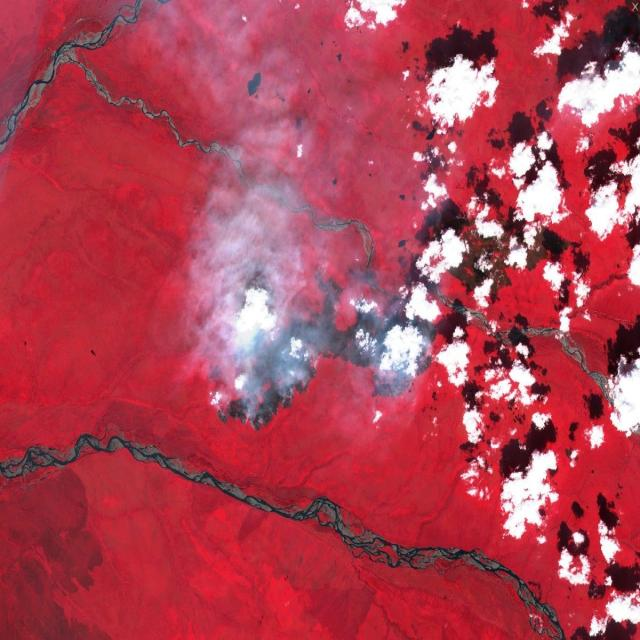fire: (211, 257, 441, 434)
